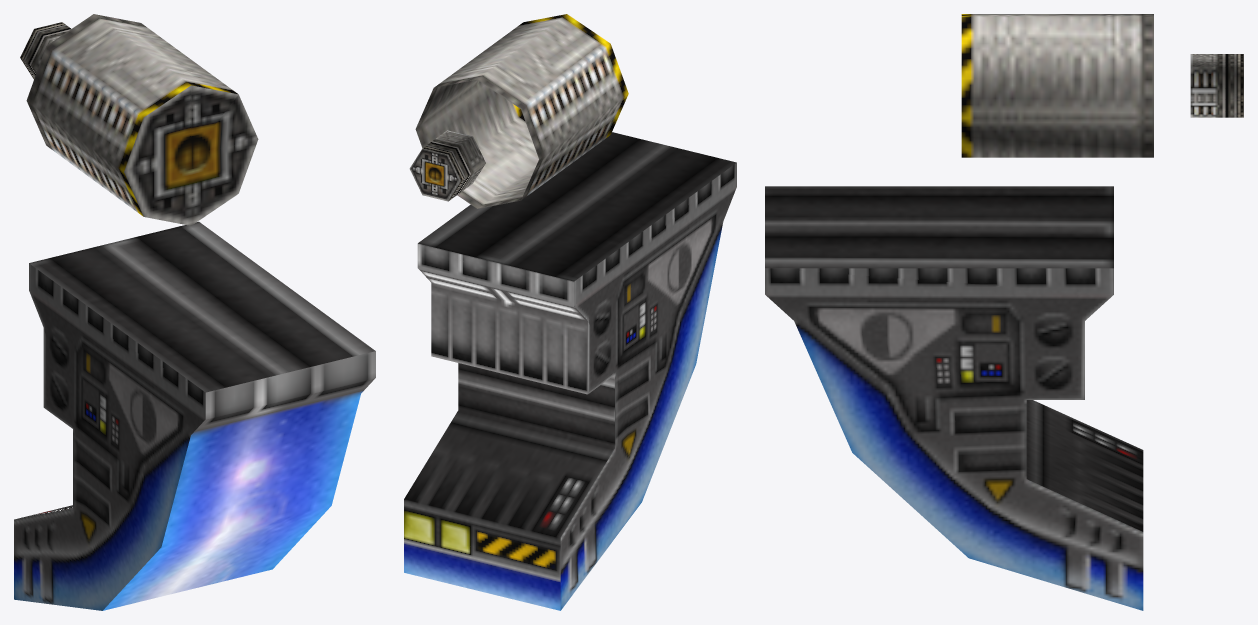
File: acs21.obj
3 views of the same model, side by side, from view 1: azimuth 30°, elevation 25°; view 2: azimuth 150°, elevation 25°; view 3: azimuth 270°, elevation 25° (orthographic). The views are drawn at different scales.
Visible parts, largest first — view 1: frm-genbody, frm-bar1, frm-bar2; view 2: frm-genbody, frm-bar1, frm-bar2; view 3: frm-genbody, frm-bar1, frm-bar2.
Part boxes in pixels (box(x1,y1,x2,y2)): frm-genbody: box(14, 221, 375, 610); frm-bar1: box(26, 14, 258, 225); frm-bar2: box(20, 22, 70, 79); frm-genbody: box(404, 132, 736, 610); frm-bar1: box(415, 14, 628, 208); frm-bar2: box(409, 130, 485, 201); frm-genbody: box(765, 186, 1143, 610); frm-bar1: box(961, 14, 1153, 157); frm-bar2: box(1190, 54, 1243, 117).
Size of the model in its own units: 2 by 6.3 by 4.94.
5 materials, 5 textured.
